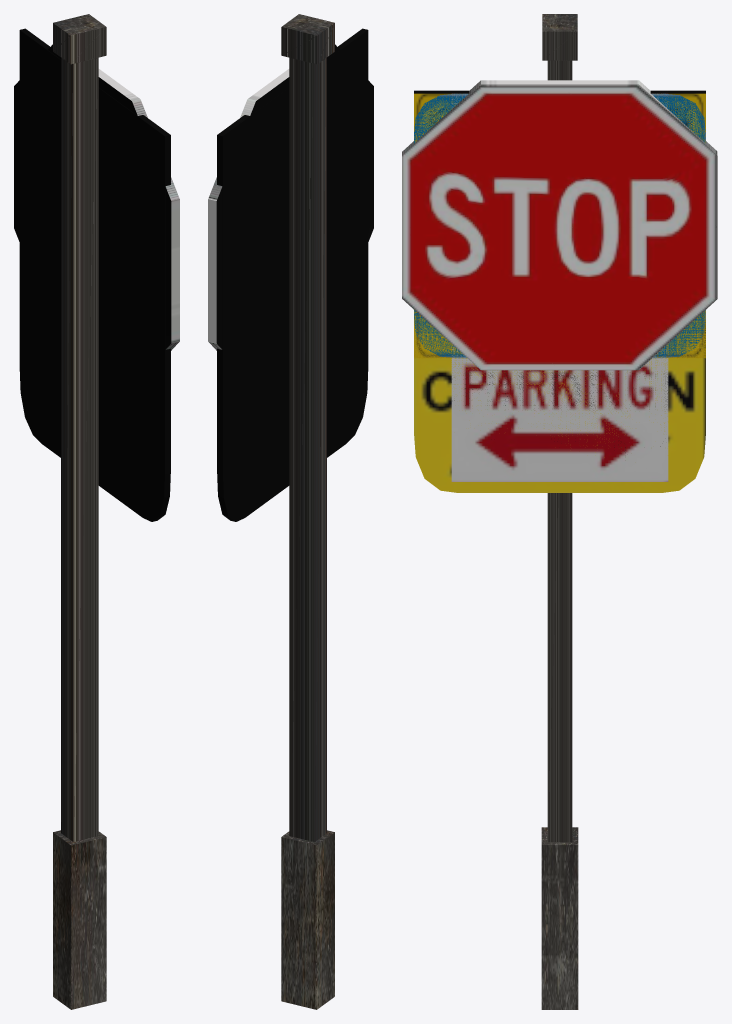
The model's file is TrafficSigns.fbx.
The picture shows the model from 3 angles, left to right: view 1: azimuth 30°, elevation 25°; view 2: azimuth 150°, elevation 25°; view 3: azimuth 270°, elevation 25°; orthographic projection.
Visible parts, largest first — view 1: SignPost, Sign1, Sign2, Sign4, Sign7, Sign3, Sign5; view 2: SignPost, Sign1, Sign4, Sign5, Sign2, Sign7, Sign3; view 3: Sign7, Sign2, SignPost, Sign4, Sign1, Sign5.
Part boxes in pixels (<box>): SignPost: <box>53,14,106,1009</box>; Sign1: <box>19,41,170,388</box>; Sign2: <box>38,42,151,508</box>; Sign4: <box>19,48,170,521</box>; Sign7: <box>14,44,179,350</box>; Sign3: <box>22,64,165,366</box>; Sign5: <box>19,28,170,399</box>; SignPost: <box>281,14,334,1009</box>; Sign1: <box>217,41,367,387</box>; Sign4: <box>217,48,368,521</box>; Sign5: <box>217,28,368,399</box>; Sign2: <box>236,42,349,508</box>; Sign7: <box>208,44,373,350</box>; Sign3: <box>223,81,347,365</box>; Sign7: <box>402,80,717,370</box>; Sign2: <box>451,90,668,481</box>; SignPost: <box>541,14,578,1009</box>; Sign4: <box>414,99,705,492</box>; Sign1: <box>414,93,705,358</box>; Sign5: <box>414,90,705,358</box>.
Size of the model in its own units: 10.06 by 237 by 69.3.
